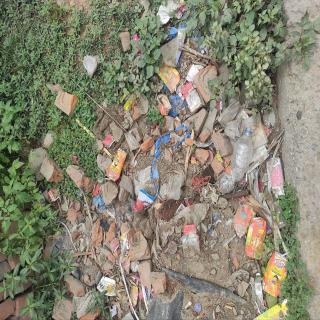Plastic-bottle: (230, 125, 256, 185)
